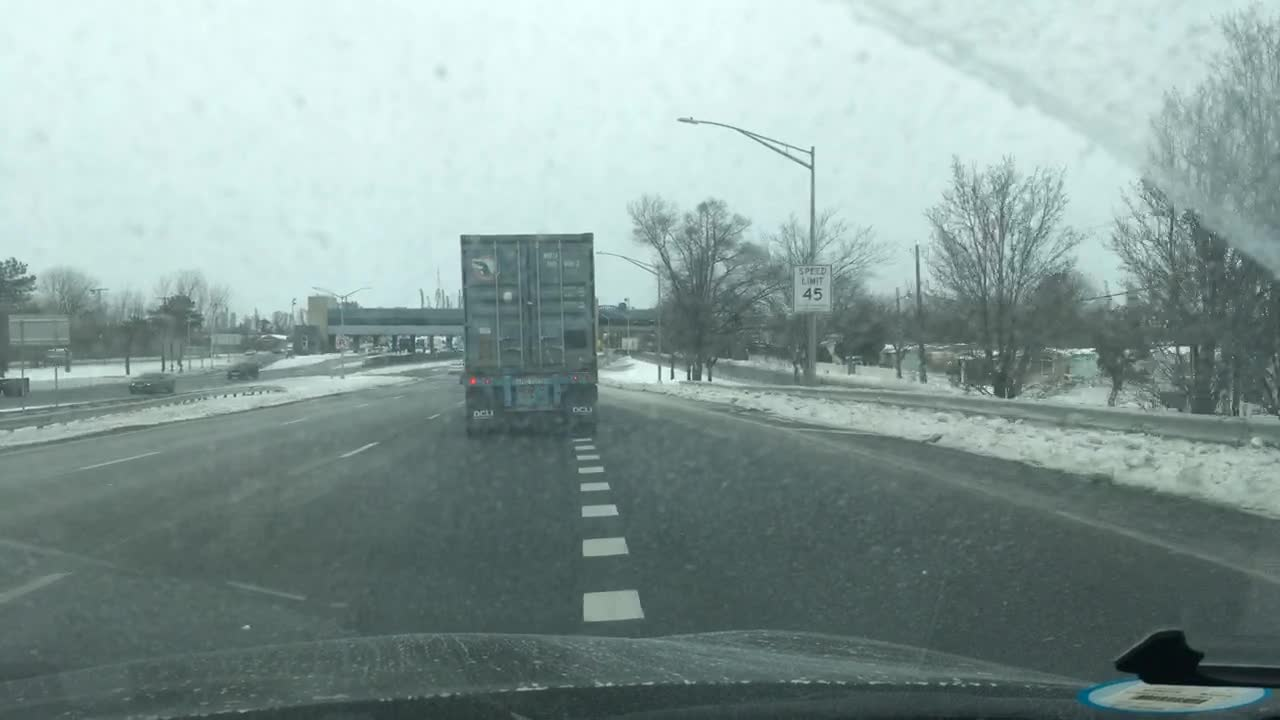car: (127, 372, 177, 396), (226, 360, 259, 380), (42, 345, 70, 363)
traffic sign: (5, 312, 72, 347), (791, 264, 835, 314), (334, 331, 352, 349), (619, 334, 638, 351)
truck: (457, 232, 600, 435)
